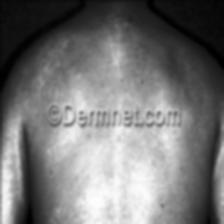Toxin: (133, 52, 160, 90), (80, 168, 104, 206)
